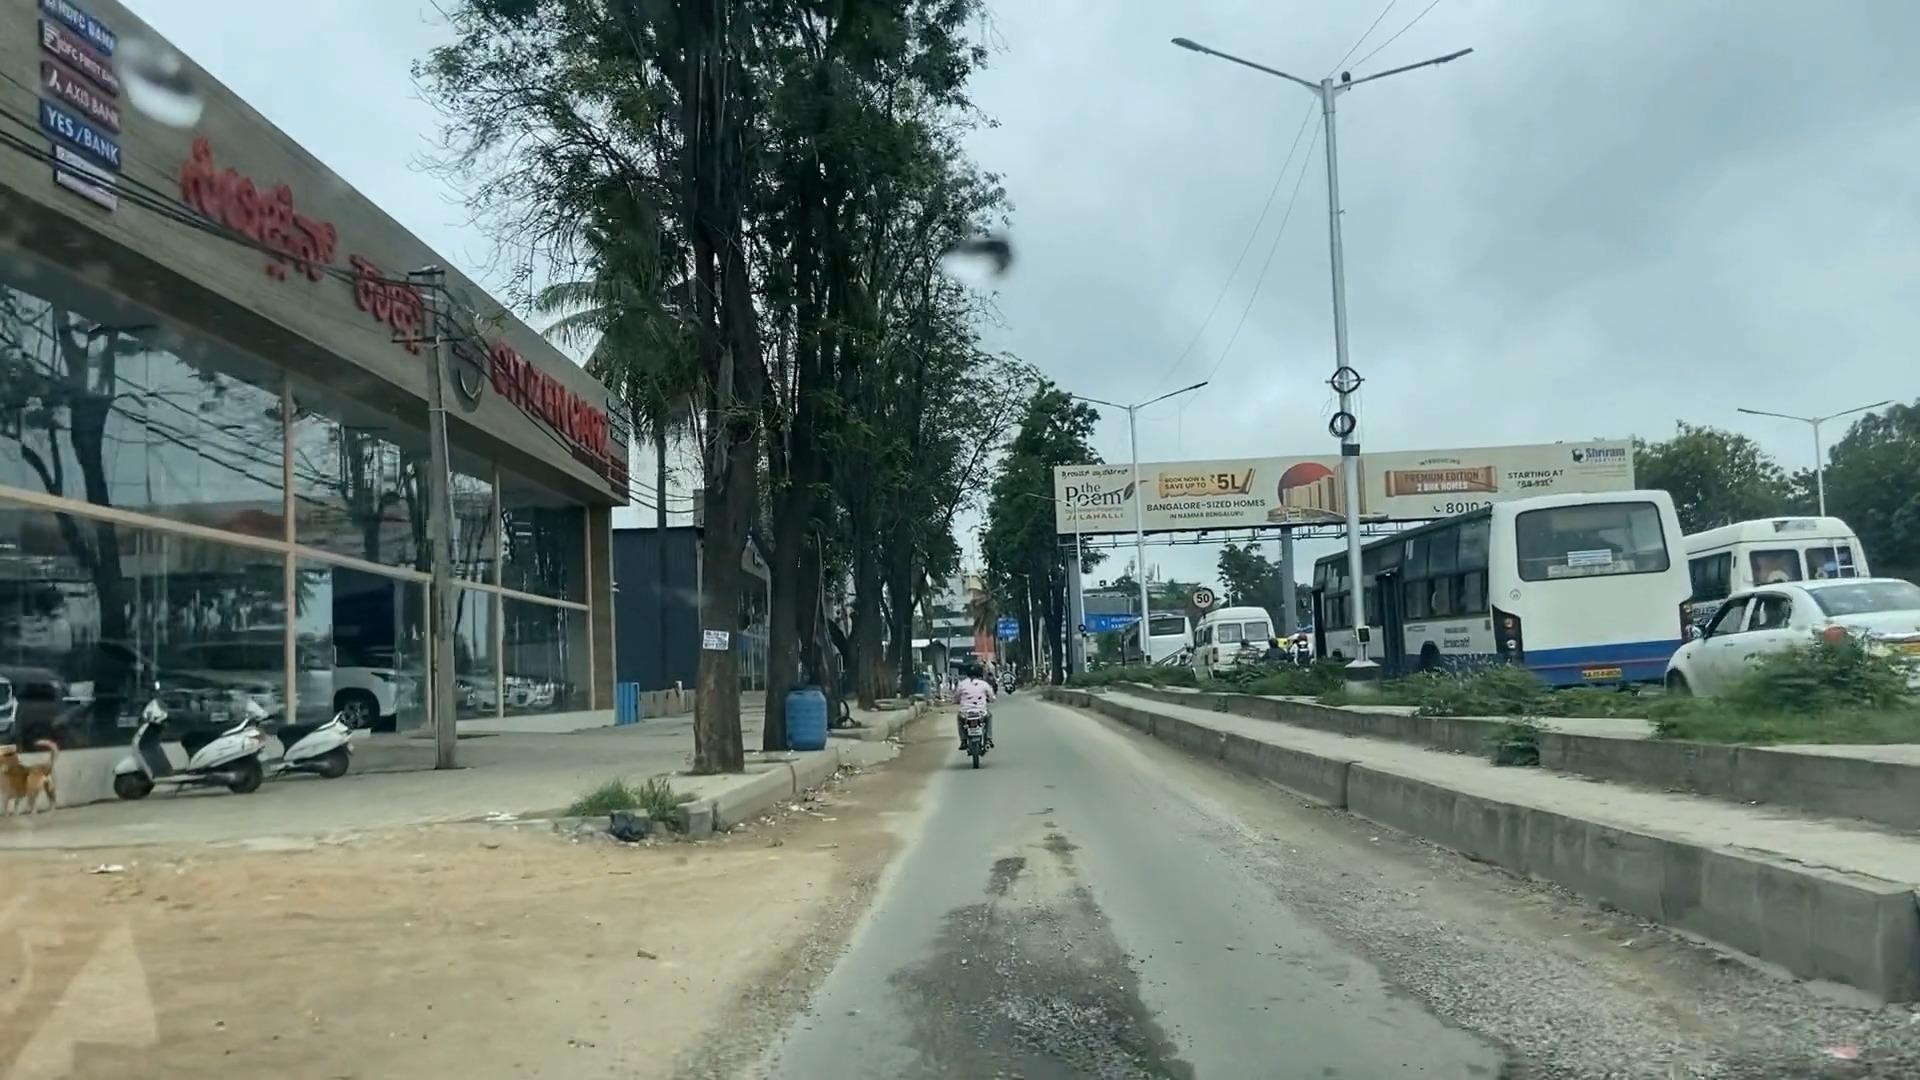RoadDamages: (884, 860, 1224, 1080), (1416, 949, 1646, 1080)
